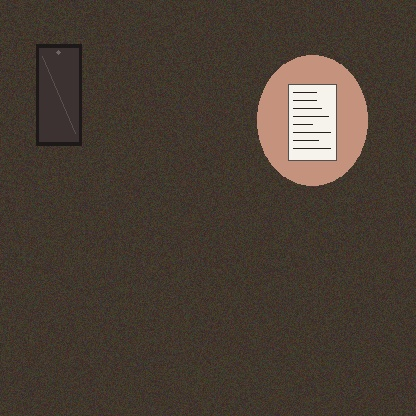cell_phone: (36, 44, 81, 145)
exam_chit: (288, 84, 336, 160)
